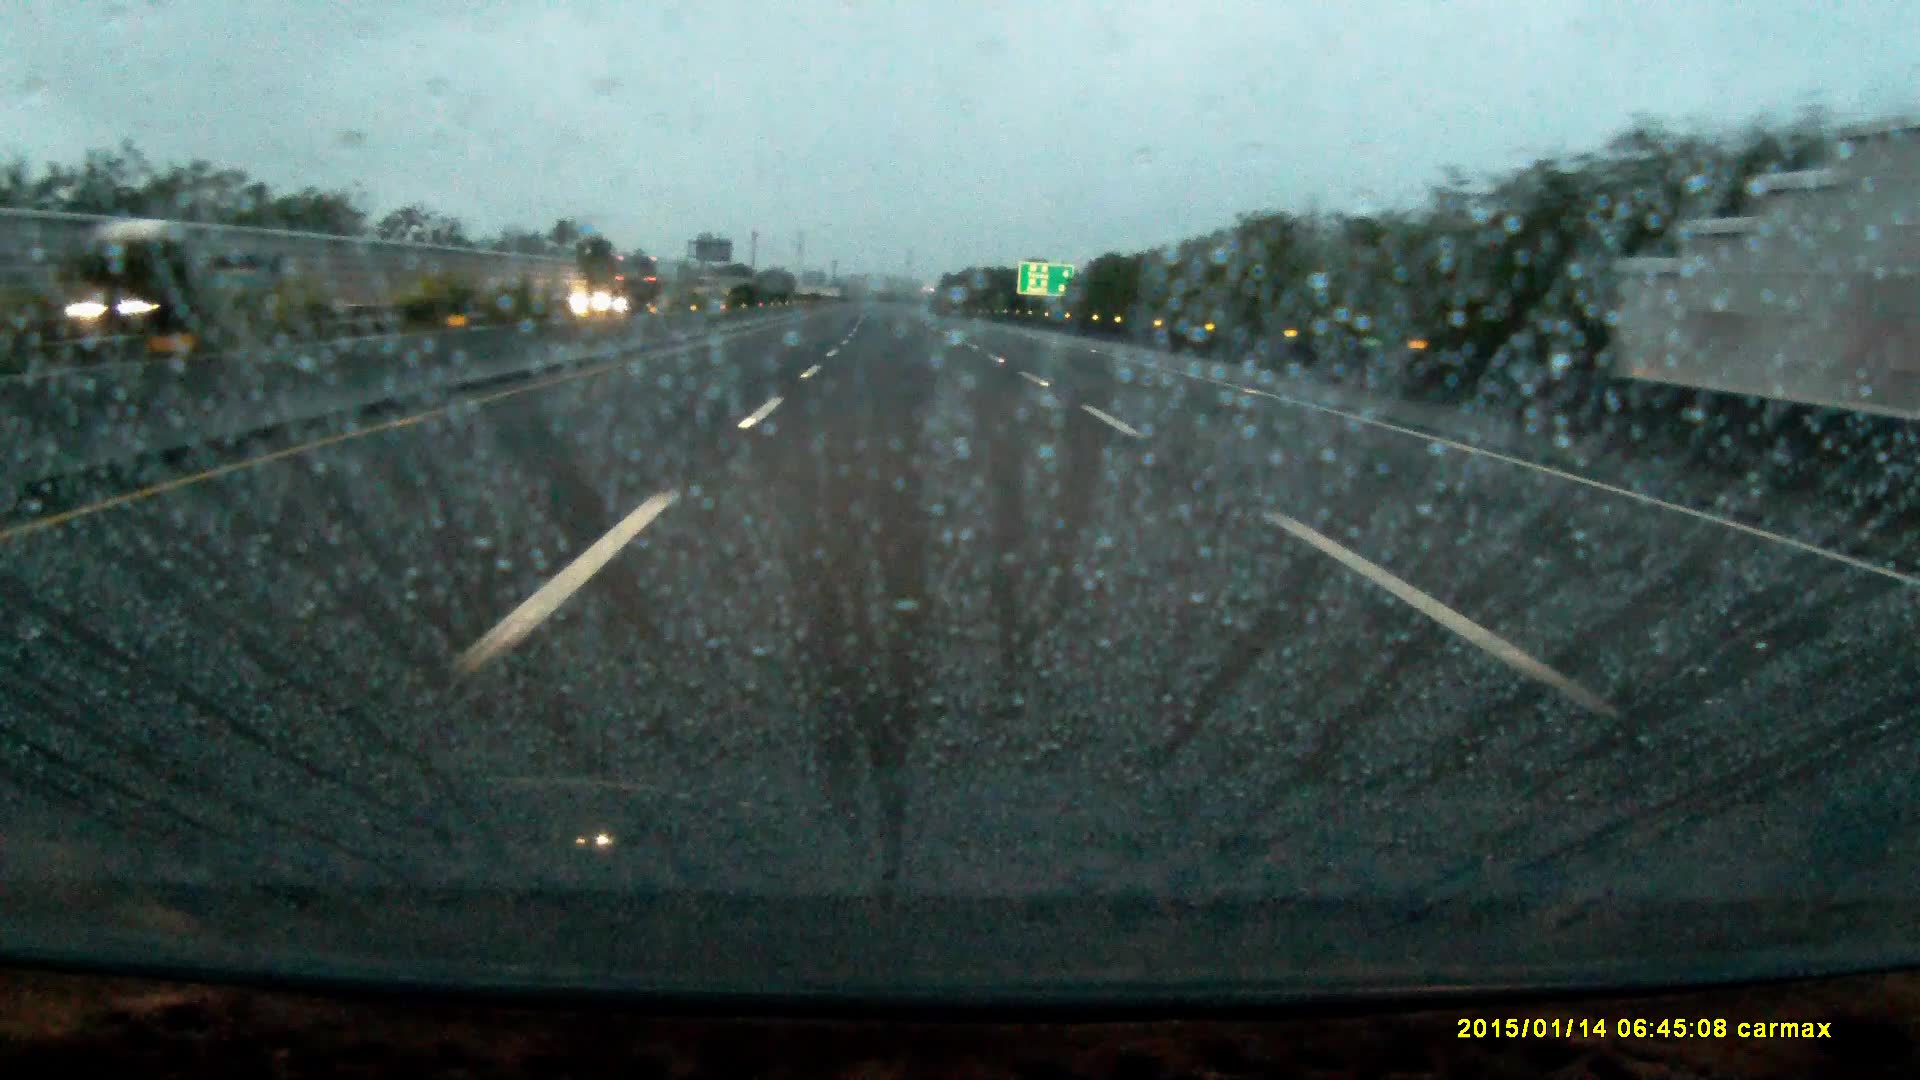vehicle: (84, 219, 295, 360), (615, 257, 680, 316)
